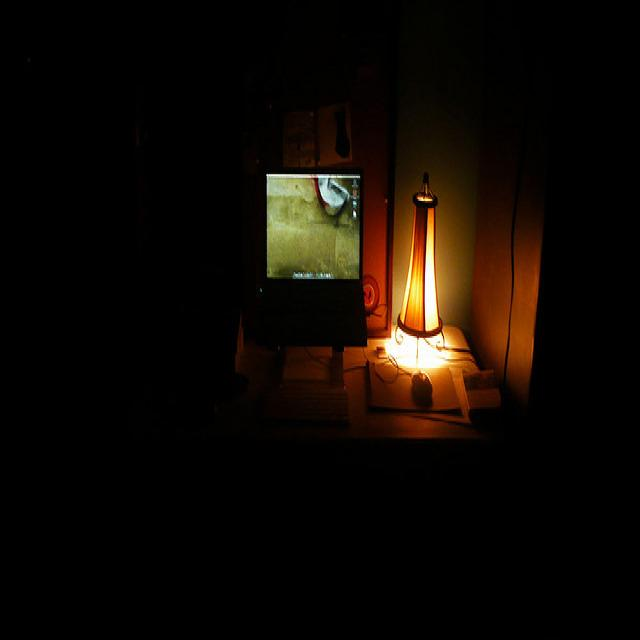Table: (59, 282, 503, 594)
